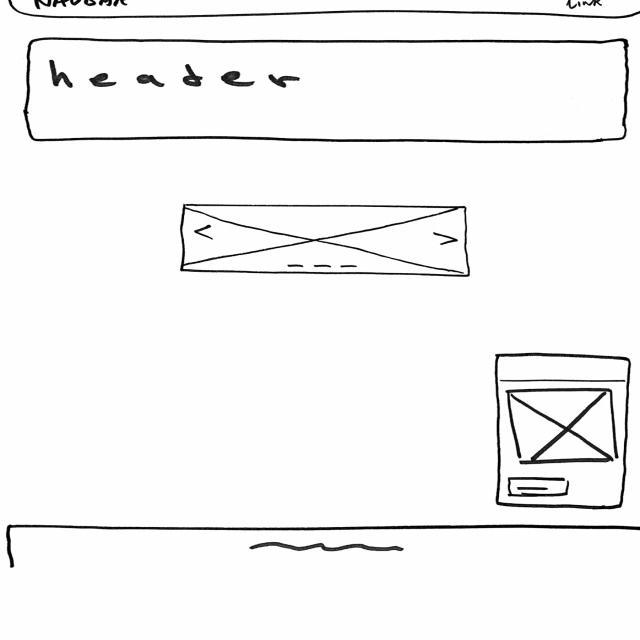container: (26, 37, 632, 145), (494, 354, 634, 512), (3, 1, 640, 20)
icon-button: (504, 476, 572, 500)
image: (178, 202, 472, 280), (508, 389, 622, 466)
label: (44, 59, 306, 91), (33, 1, 135, 11), (565, 1, 607, 10)
text: (241, 543, 411, 557)
